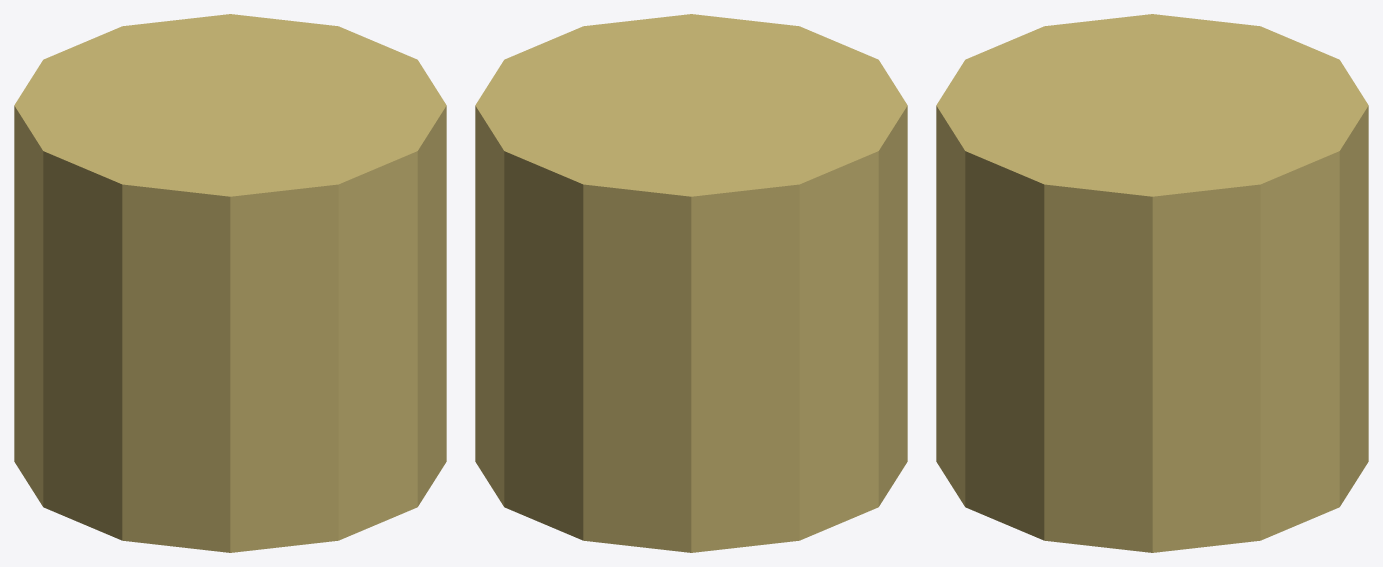
The model's file is hay_bale.glb.
3 views of the same model, side by side, from view 1: azimuth 30°, elevation 25°; view 2: azimuth 150°, elevation 25°; view 3: azimuth 270°, elevation 25° (orthographic).
Parts seen in each view (by area): view 1: hay_bale_0; view 2: hay_bale_0; view 3: hay_bale_0.
Part boxes in pixels (box(x1,y1,x2,y2)): hay_bale_0: box(14, 14, 446, 552); hay_bale_0: box(475, 14, 907, 552); hay_bale_0: box(936, 14, 1368, 552).
Size of the model in its own units: 1.1 by 1 by 1.1.
